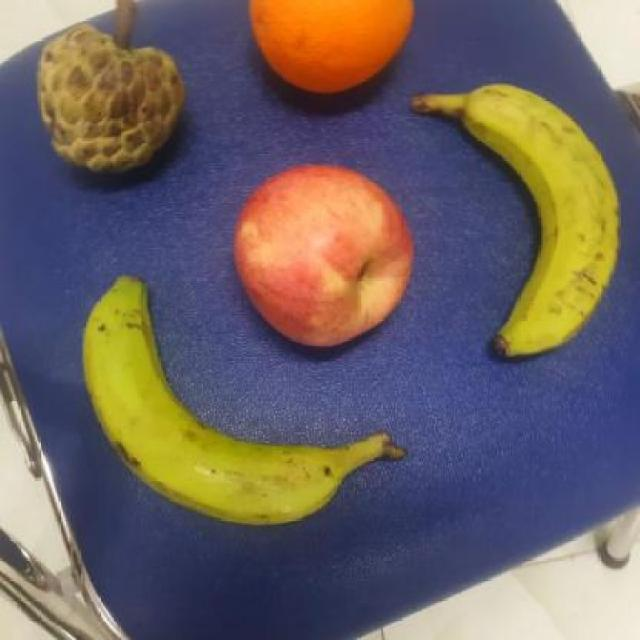banana: (79, 270, 402, 533), (411, 81, 634, 373)
oren: (228, 164, 417, 356), (248, 0, 420, 108)
sugar apple: (37, 23, 192, 191)
